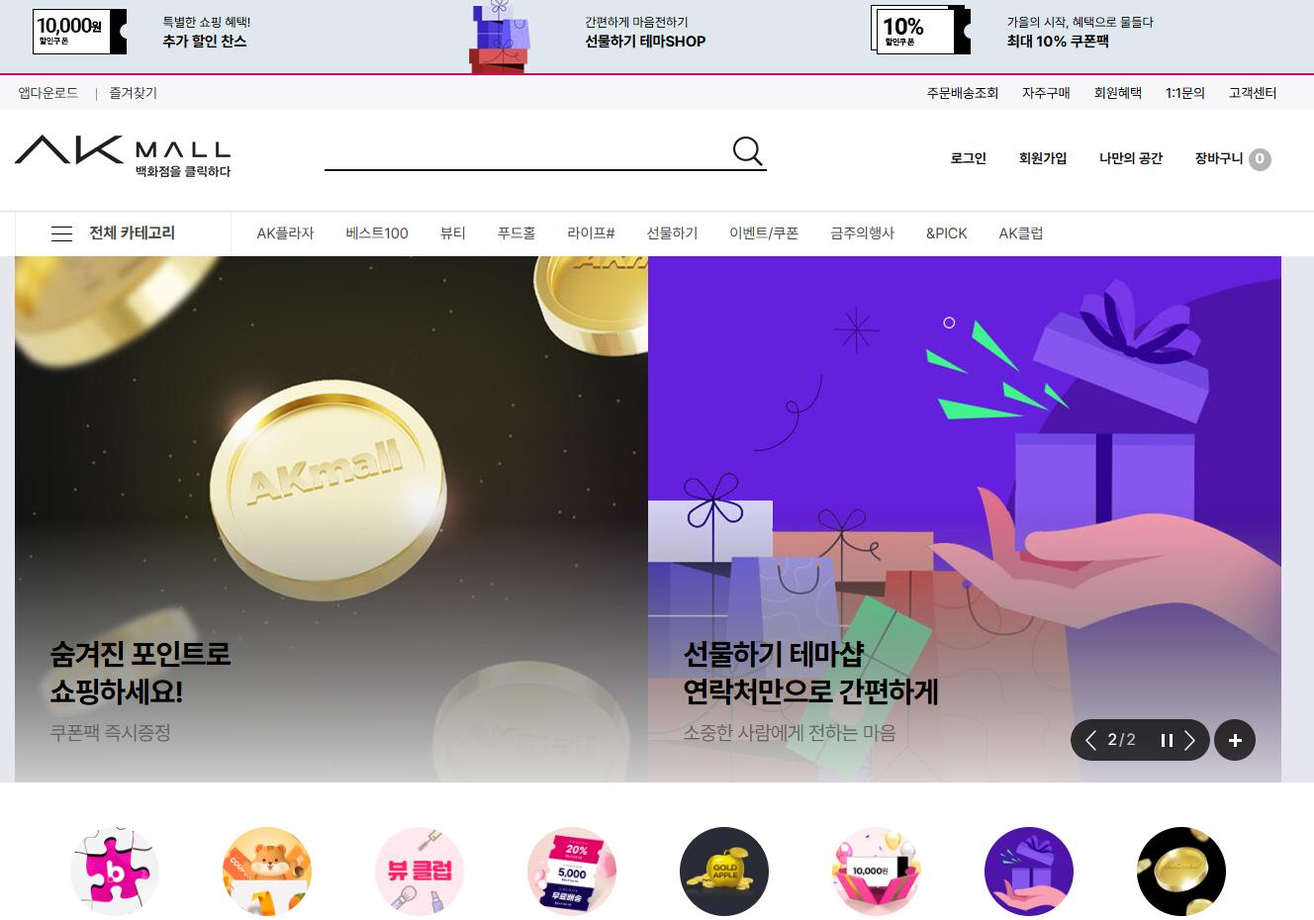button: (53, 219, 168, 244), (907, 80, 1012, 99), (559, 216, 627, 244), (491, 221, 555, 246), (646, 218, 707, 244), (252, 218, 319, 240), (725, 219, 804, 237), (11, 84, 82, 104), (1020, 145, 1074, 167), (1103, 152, 1173, 168), (346, 224, 414, 240), (826, 223, 894, 239), (101, 84, 166, 100), (992, 228, 1053, 245), (433, 220, 472, 245), (1150, 83, 1207, 99), (947, 148, 991, 166), (1022, 84, 1076, 98), (924, 226, 972, 241), (1236, 84, 1291, 96), (1206, 156, 1253, 169), (1097, 87, 1142, 99), (942, 83, 947, 84)
input_field: (319, 131, 768, 167)
popup: (6, 0, 1314, 72)
